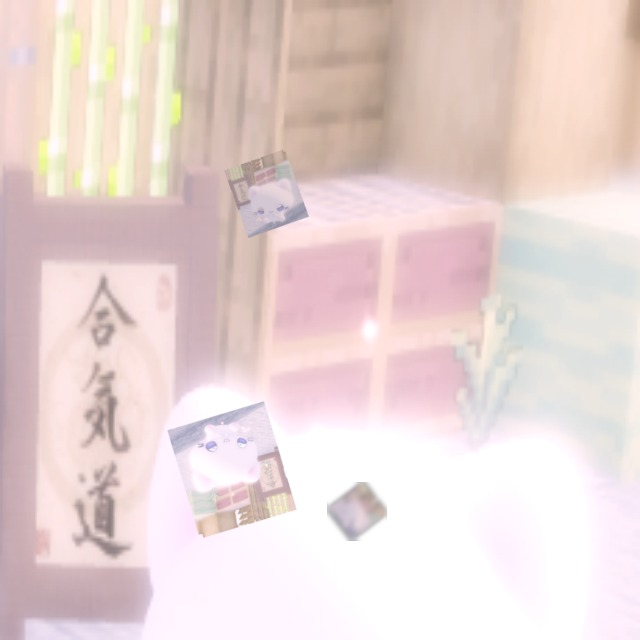urso_branco: (167, 401, 297, 539), (224, 149, 309, 238), (327, 482, 387, 541)
